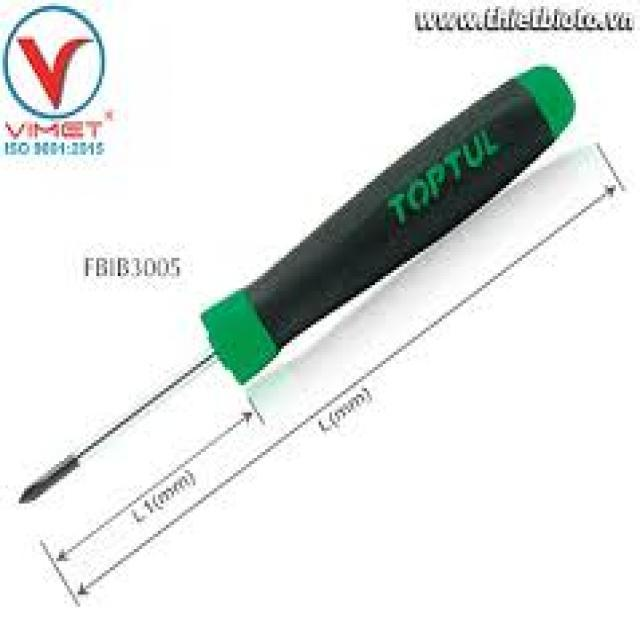screwdriver: (14, 60, 578, 512)
